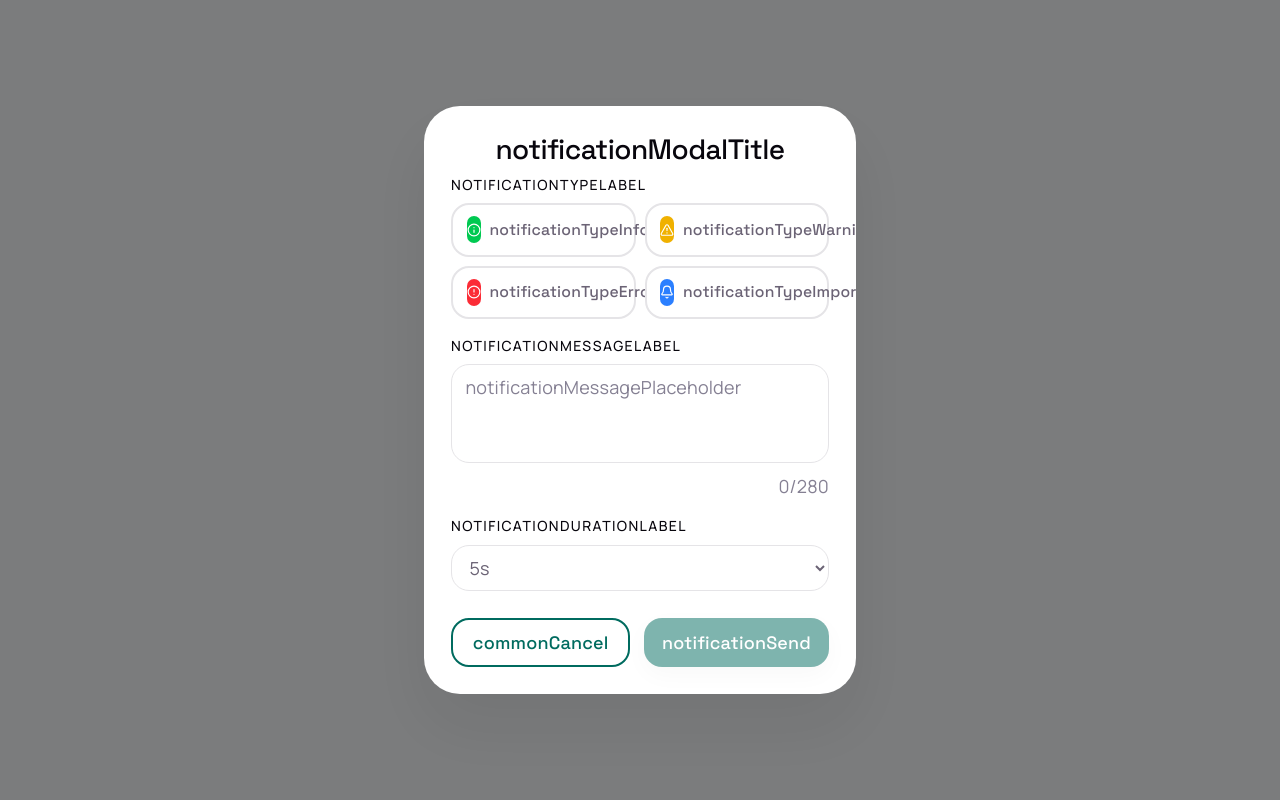
KioskNotificationModal › enables submit when a type is selected and message is filled
Note: Select a type
Click the button "notificationTypeInfo" at (543, 230), box [451, 203, 636, 257]
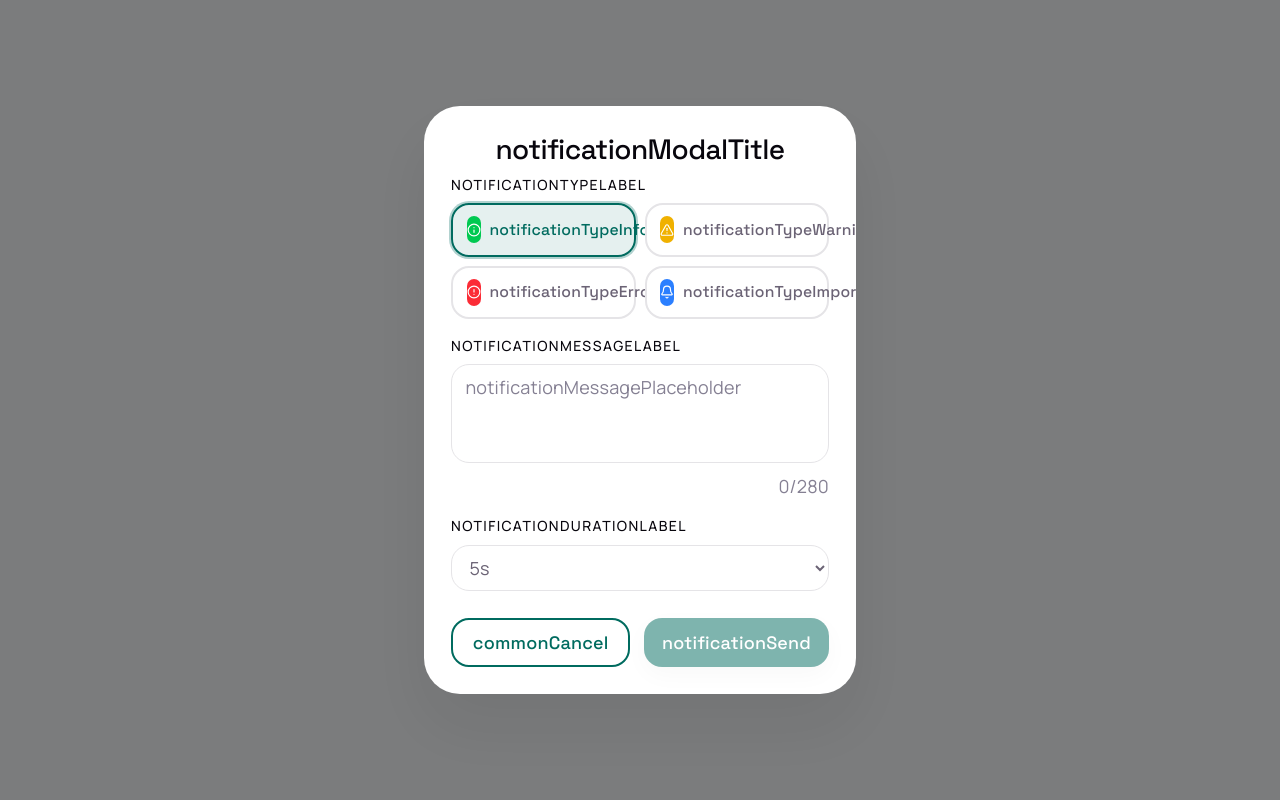
Note: Type a message
Type "Match starting soon" into the text box at (640, 414), box [451, 364, 829, 463]
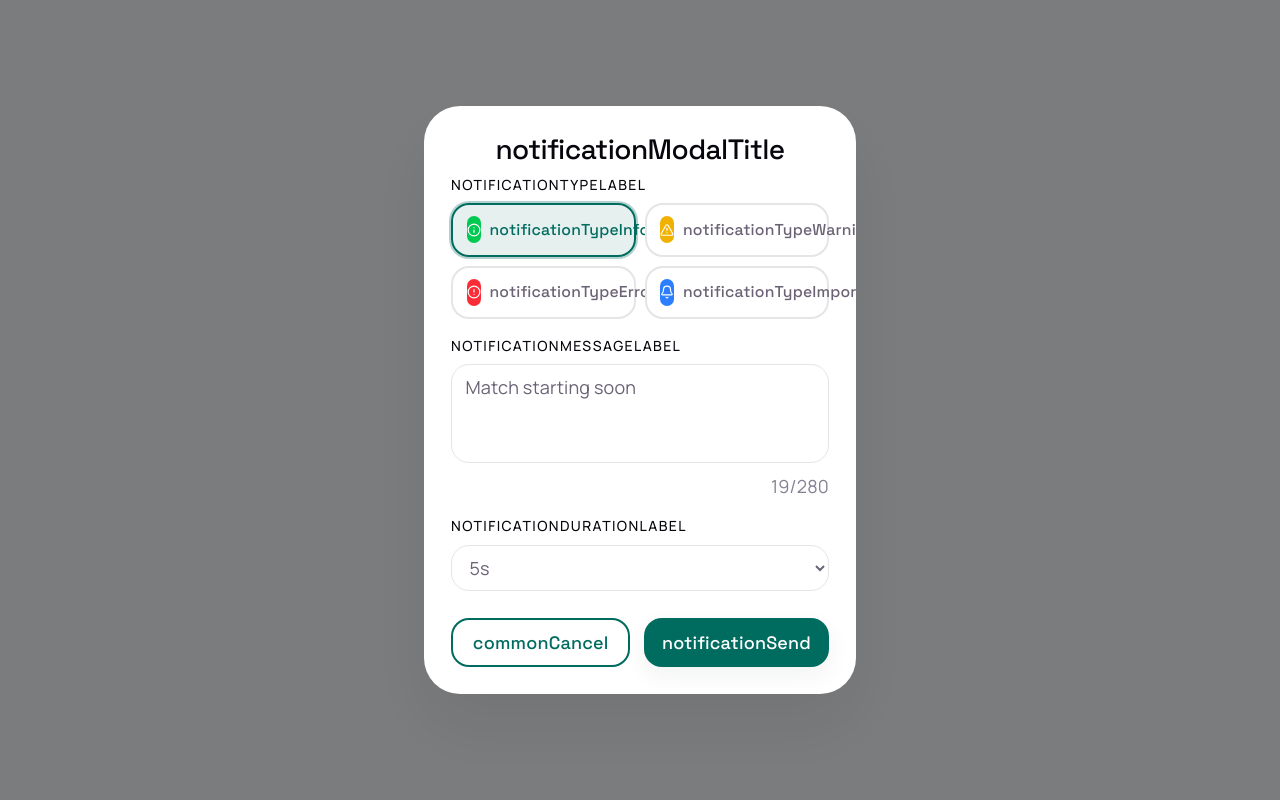
Result: the button "notificationSend" is enabled at [644, 618, 829, 667]
